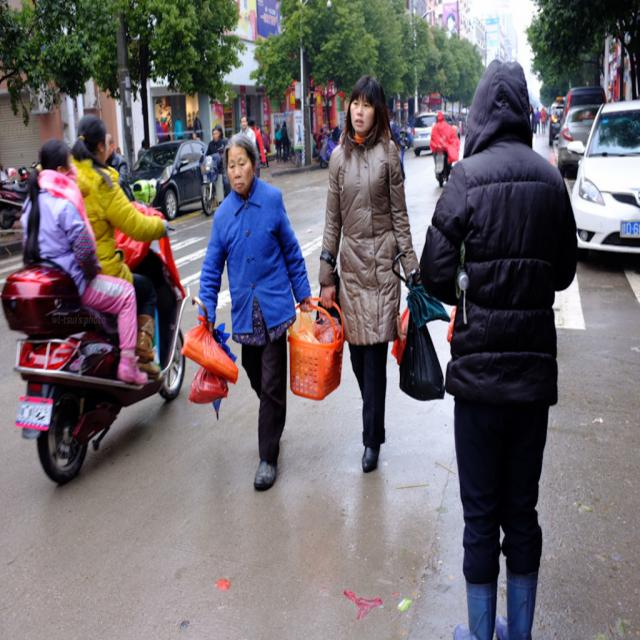other: (571, 96, 639, 262), (129, 139, 221, 215), (558, 104, 596, 174), (411, 108, 458, 152), (413, 114, 440, 158), (550, 109, 561, 143)
